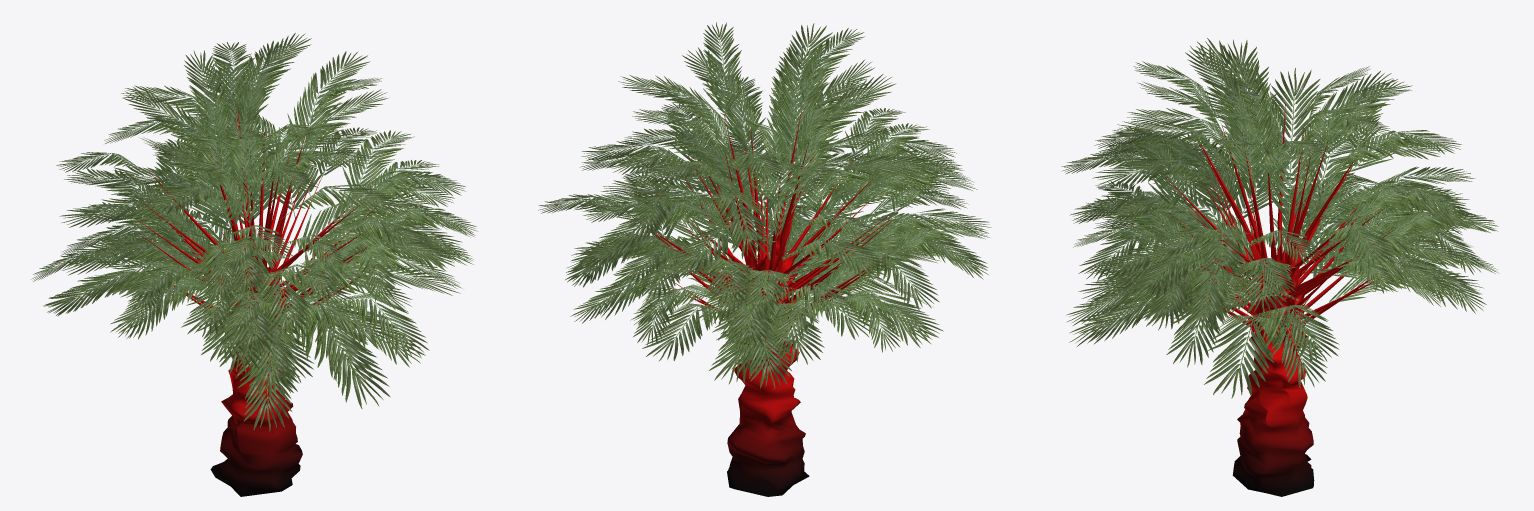
File: Palm_3_7.fbx
3 views of the same model, side by side, from view 1: azimuth 30°, elevation 25°; view 2: azimuth 150°, elevation 25°; view 3: azimuth 270°, elevation 25° (orthographic).
Visible parts, largest first — view 1: Palm_3_7; view 2: Palm_3_7; view 3: Palm_3_7.
Boxes of the visible parts, box(x1,y1,x2,y2) form: Palm_3_7: box(31, 33, 477, 496); Palm_3_7: box(538, 22, 991, 496); Palm_3_7: box(1061, 38, 1498, 496).
Bounding box in the file's own units: 4404 × 4139 × 4428.
